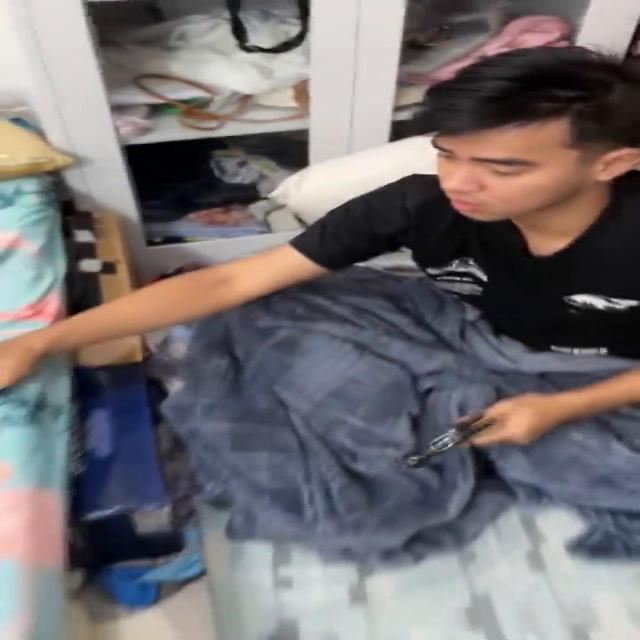hammer: (403, 410, 495, 470)
